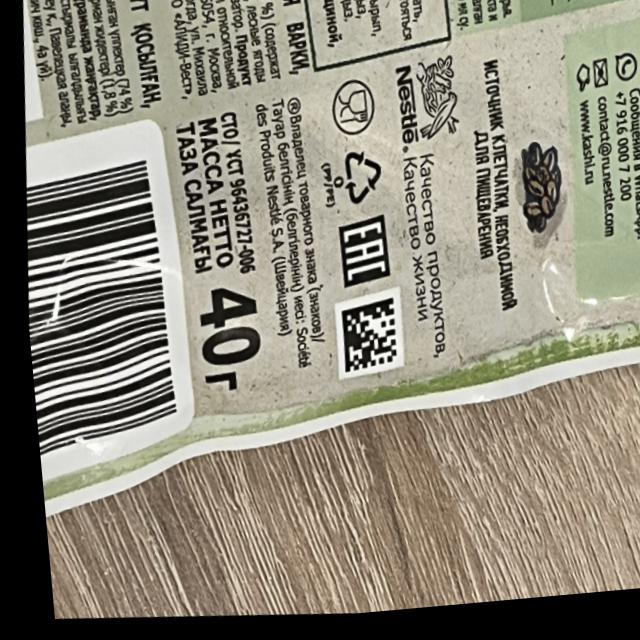datamatrix: (329, 300, 395, 383)
